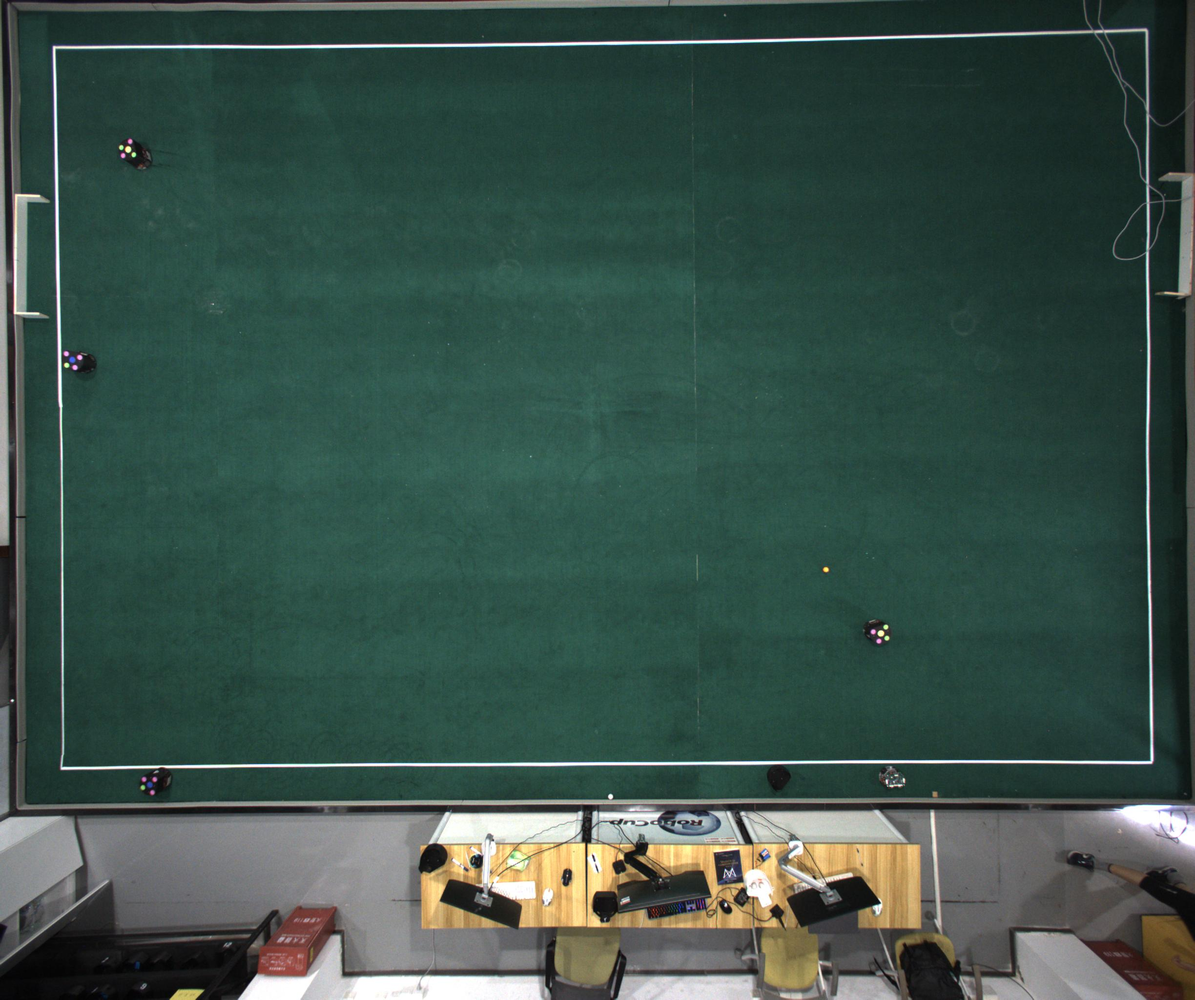ball: (822, 567, 830, 573)
blue_bot: (62, 350, 84, 371), (140, 776, 160, 796)
yellow_bot: (867, 623, 892, 645), (119, 138, 136, 160)
